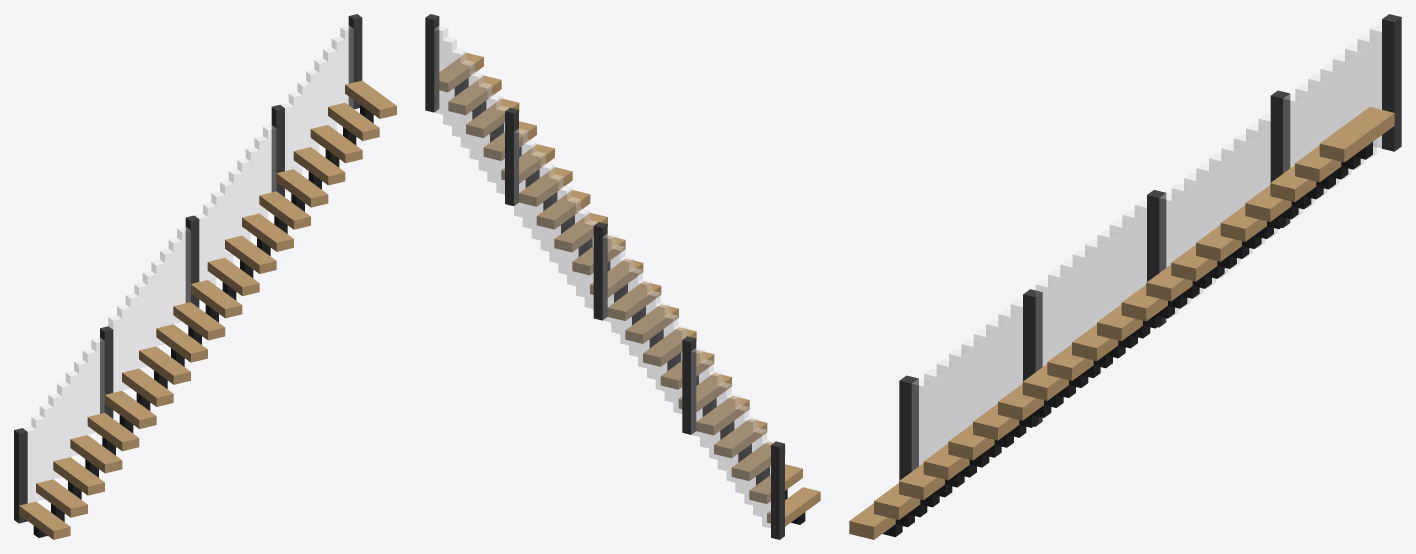
Rendered from staris.glb.
The picture shows the model from 3 angles, left to right: view 1: azimuth 30°, elevation 25°; view 2: azimuth 150°, elevation 25°; view 3: azimuth 330°, elevation 25°; orthographic projection. The views are drawn at different scales.
Parts seen in each view (by area): view 1: stair_room_glass, stair_room_metalglassholder, stair_room_stairholder, stair_room_staircase.004, stair_room_staircase.006, stair_room_staircase.010, stair_room_staircase.017, stair_room_staircase.005, stair_room_staircase.011, stair_room_staircase.012, stair_room_staircase.018, stair_room_staircase.019 (+11 smaller); view 2: stair_room_glass, stair_room_metalglassholder, stair_room_stairholder, stair_room_staircase.015, stair_room_staircase.010, stair_room_staircase.004, stair_room_staircase.016, stair_room_staircase.020, stair_room_staircase.009, stair_room_staircase.005, stair_room_staircase.008, stair_room_staircase.013 (+11 smaller); view 3: stair_room_glass, stair_room_metalglassholder, stair_room_stairholder, stair_room_staircase, stair_room_staircase.013, stair_room_staircase.004, stair_room_staircase.018, stair_room_staircase.017, stair_room_staircase.008, stair_room_staircase.012, stair_room_staircase.006, stair_room_staircase.015 (+11 smaller).
Boxes of the visible parts, x1,y1,x2,y2 form: stair_room_glass: [23, 25, 353, 502]; stair_room_metalglassholder: [14, 14, 362, 523]; stair_room_stairholder: [33, 105, 373, 537]; stair_room_staircase.004: [70, 435, 122, 473]; stair_room_staircase.006: [104, 390, 156, 428]; stair_room_staircase.010: [173, 302, 225, 340]; stair_room_staircase.017: [276, 169, 328, 207]; stair_room_staircase.005: [87, 413, 139, 451]; stair_room_staircase.011: [190, 280, 242, 318]; stair_room_staircase.012: [207, 258, 259, 296]; stair_room_staircase.018: [293, 147, 345, 185]; stair_room_staircase.019: [310, 125, 362, 163]; stair_room_glass: [434, 25, 774, 528]; stair_room_metalglassholder: [425, 14, 784, 539]; stair_room_stairholder: [454, 78, 805, 524]; stair_room_staircase.015: [536, 190, 590, 229]; stair_room_staircase.010: [607, 281, 661, 320]; stair_room_staircase.004: [714, 418, 767, 458]; stair_room_staircase.016: [519, 167, 572, 206]; stair_room_staircase.020: [448, 75, 501, 115]; stair_room_staircase.009: [625, 304, 678, 343]; stair_room_staircase.005: [696, 396, 749, 435]; stair_room_staircase.008: [643, 327, 696, 366]; stair_room_staircase.013: [554, 213, 607, 252]; stair_room_glass: [912, 24, 1381, 470]; stair_room_metalglassholder: [899, 14, 1401, 480]; stair_room_stairholder: [883, 142, 1372, 537]; stair_room_staircase: [1319, 107, 1394, 162]; stair_room_staircase.013: [1146, 264, 1192, 301]; stair_room_staircase.004: [923, 443, 969, 480]; stair_room_staircase.018: [1245, 185, 1291, 221]; stair_room_staircase.017: [1220, 205, 1266, 241]; stair_room_staircase.008: [1022, 364, 1068, 400]; stair_room_staircase.012: [1121, 285, 1167, 321]; stair_room_staircase.006: [973, 403, 1019, 440]; stair_room_staircase.015: [1171, 245, 1217, 281].
Bounding box in the file's own units: 4 × 4.7 × 0.8.
Materials: 24 (23 with a texture image).
